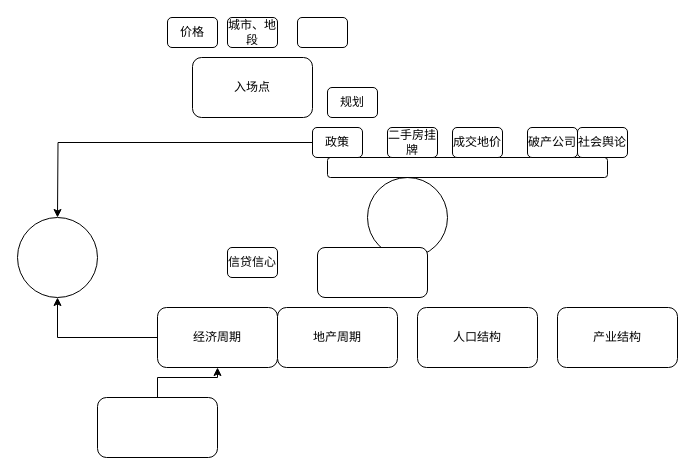
Some shapes in this 695 by 475 pixel diagram are drawn without their labels. Here are the shapes that lost their labels. From the top down, the centre of each, then its label:
point (467, 167): 观察点
point (407, 217): 房价
point (57, 257): 前几年房价高涨
point (372, 272): 总趋势：核心城市群的核心地段，三四线城市已无机会
point (157, 427): 对外贸易、政治
